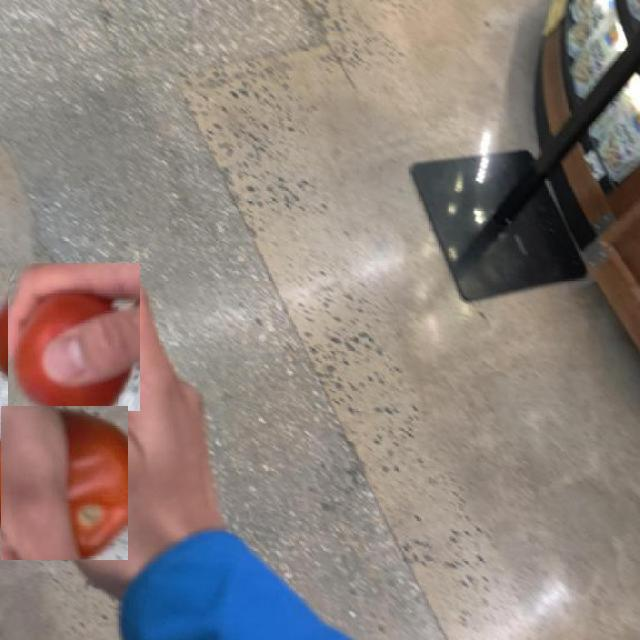Tomatoes: (0, 406, 128, 560), (9, 263, 140, 411)
